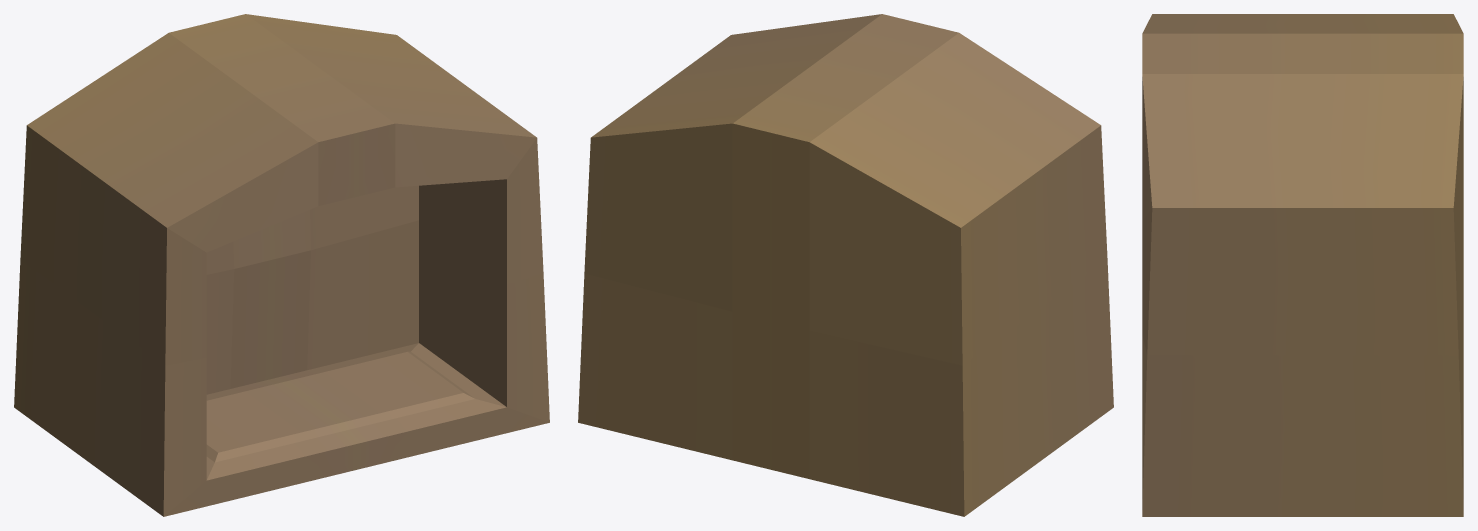
The model's file is kiln.fbx.
The picture shows the model from 3 angles, left to right: view 1: azimuth 30°, elevation 25°; view 2: azimuth 150°, elevation 25°; view 3: azimuth 270°, elevation 25°; orthographic projection. The views are drawn at different scales.
Parts seen in each view (by area): view 1: 立方体; view 2: 立方体; view 3: 立方体.
Part boxes in pixels (x1,y1,x2,y2): 立方体: (14, 14, 549, 516); 立方体: (578, 14, 1113, 516); 立方体: (1142, 14, 1463, 516).
Bounding box in the file's own units: 298 × 249 × 200.
